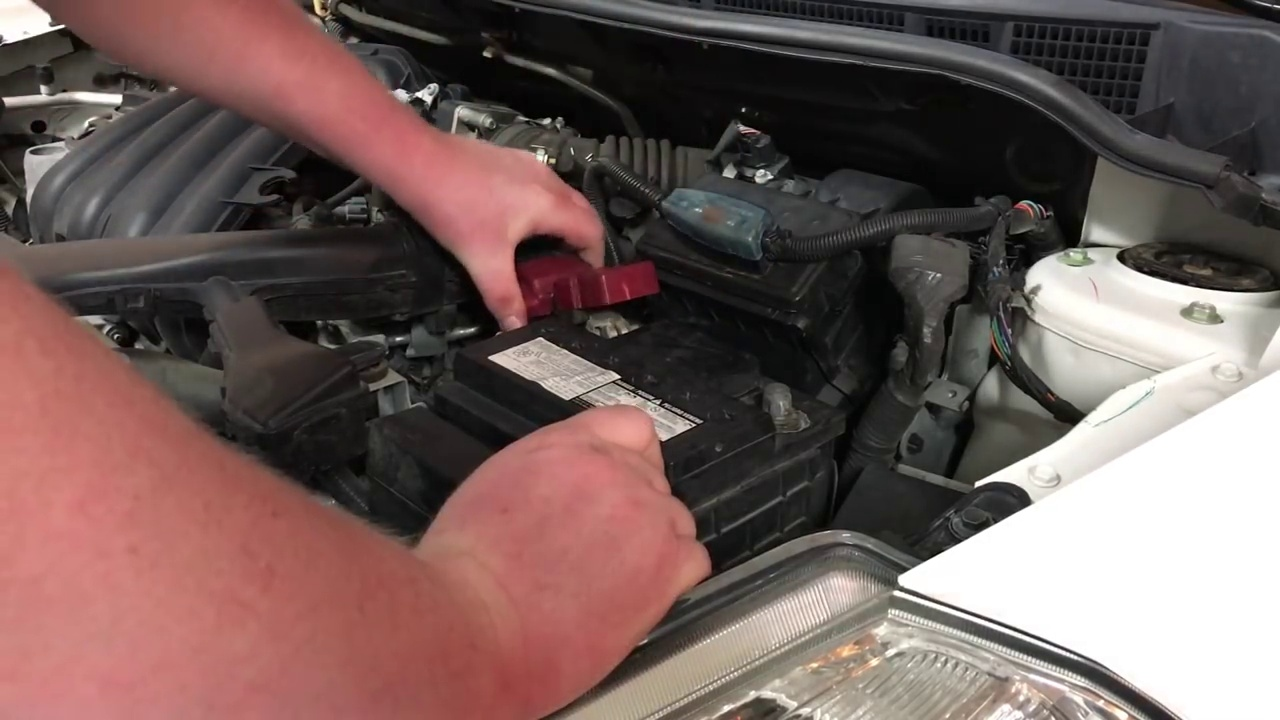battery: (455, 296, 821, 461)
neg_disconnected: (726, 358, 822, 440)
pos_touched: (462, 209, 681, 361)
